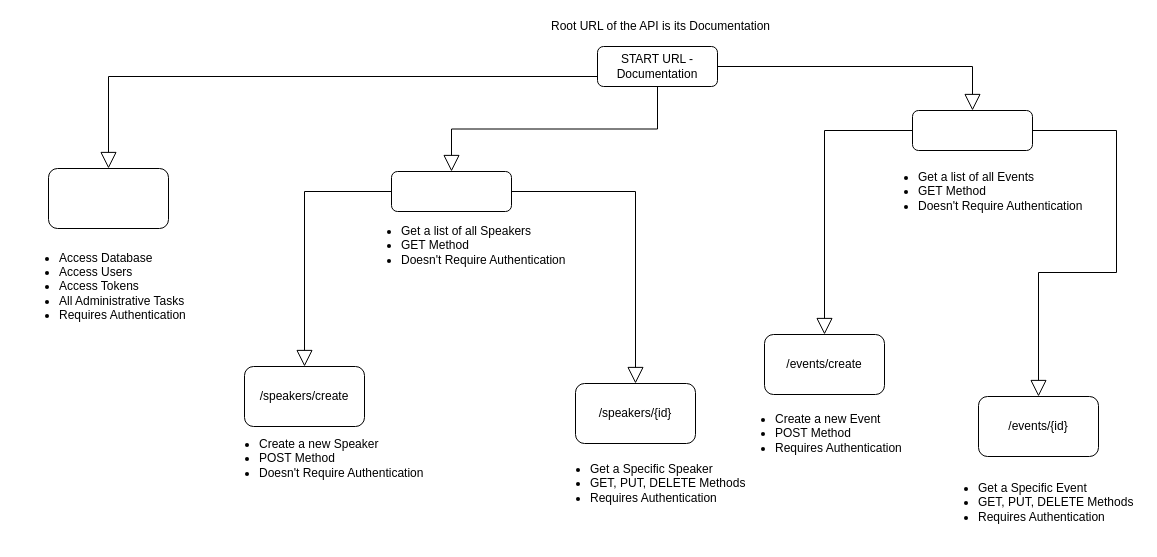
The diagram is 1157 pixels wide and 557 high, and some of its shapes have lost their labels. Each missing label, with the box of its shape:
/admin-tz: (48, 168, 168, 228)
/events: (912, 110, 1032, 150)
/speakers: (390, 170, 512, 212)
